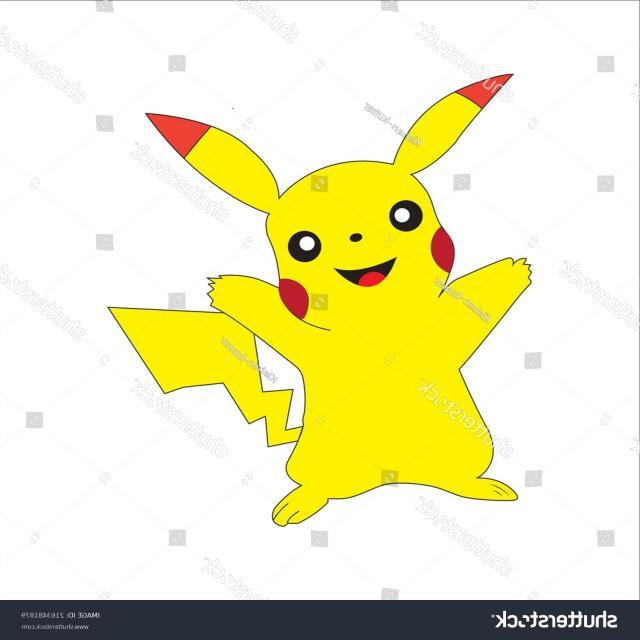Pikachu: (64, 54, 592, 559)
